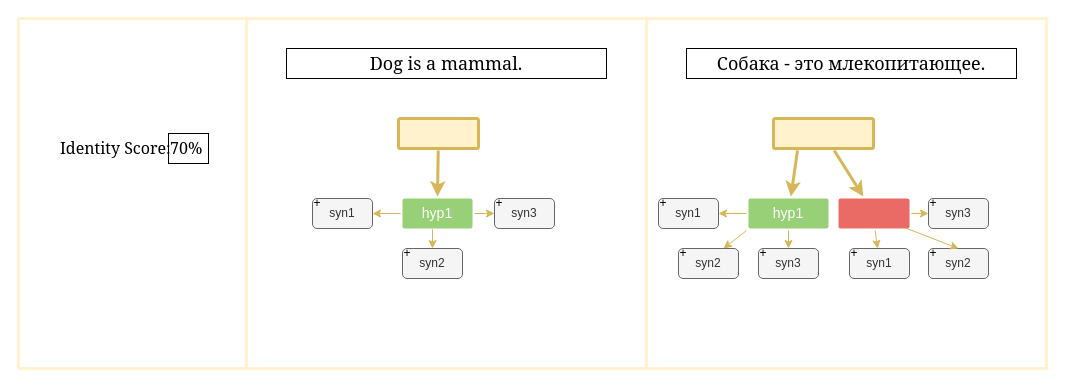
The diagram is 1068 pixels wide and 388 high, and some of its shapes have lost their labels. The centre of each missing label's shape, as x and y in pixels:
"cобака" goes at [823,133].
"dog" goes at [438,133].
"hyp2" goes at [873,213].
